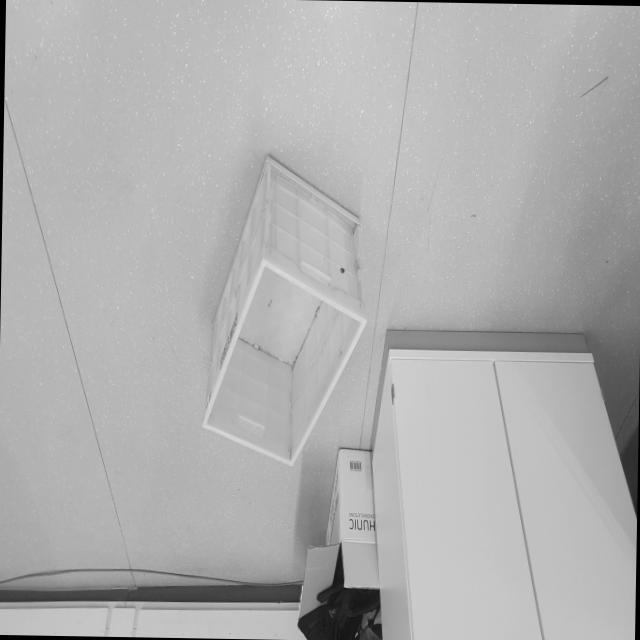box: (190, 124, 380, 495)
